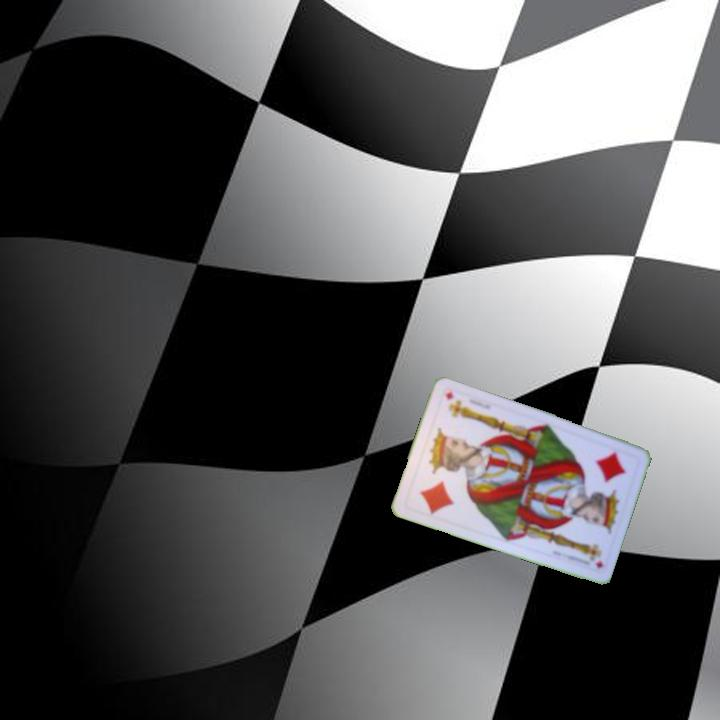d_k.png: (566, 436, 641, 517), (402, 445, 476, 525)
